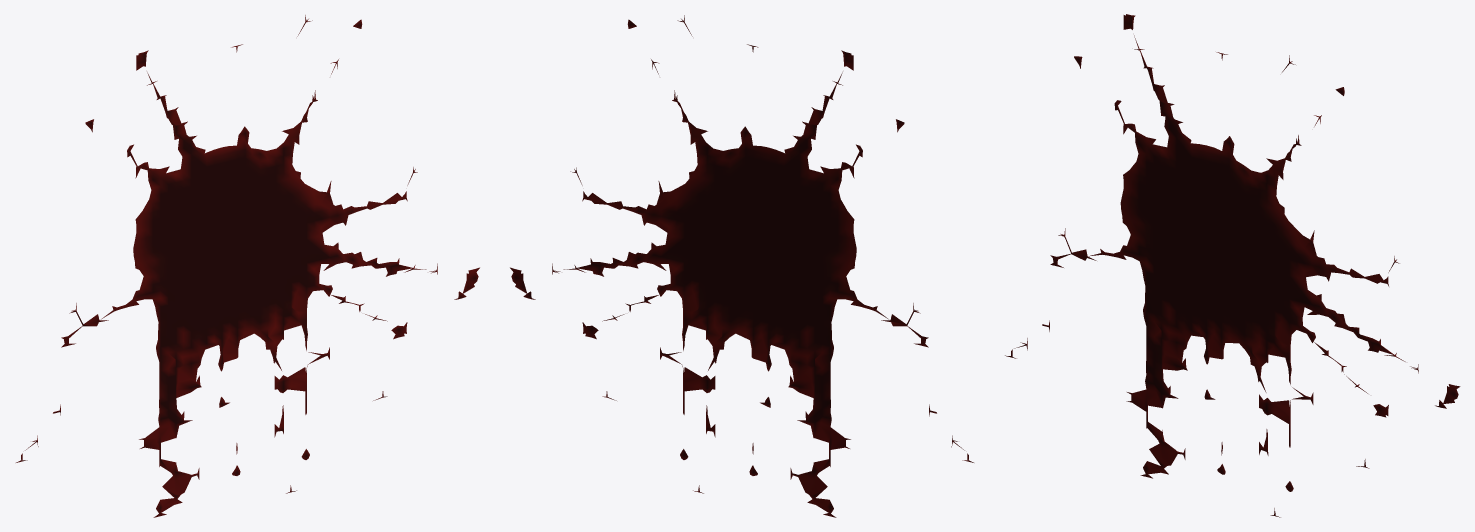
File: blood_wall_xlo.glb
3 renders of one model, left to right at view 1: azimuth 30°, elevation 25°; view 2: azimuth 150°, elevation 25°; view 3: azimuth 330°, elevation 25°, orthographic. The views are drawn at different scales.
Visible parts, largest first — view 1: blood_wall; view 2: blood_wall; view 3: blood_wall.
Part boxes in pixels (x1,y1,x2,y2): blood_wall: (16,15,479,517); blood_wall: (510,15,973,517); blood_wall: (1005,14,1460,517).
Bounding box in the file's own units: 2.06 × 2.02 × 0.004.
